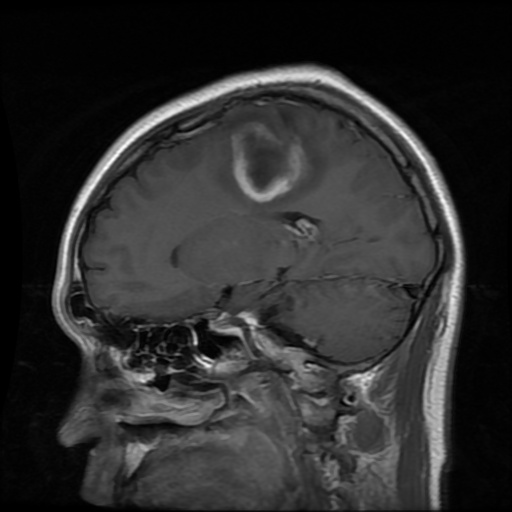glioma: (231, 121, 303, 201)
